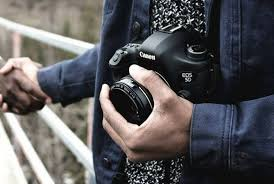camera: (109, 33, 212, 125)
